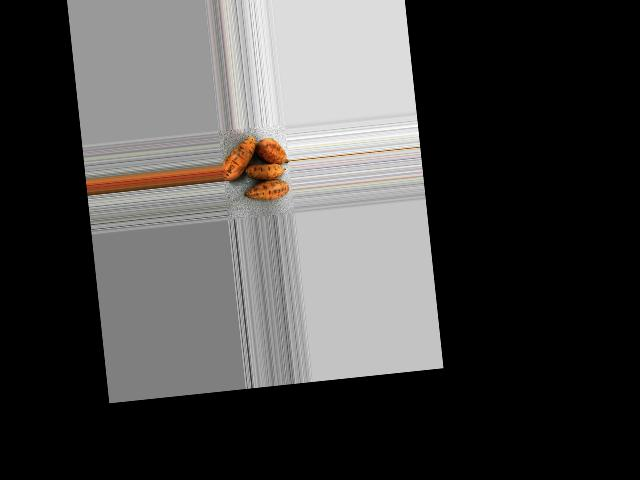sweet_potato: (218, 132, 259, 186)
